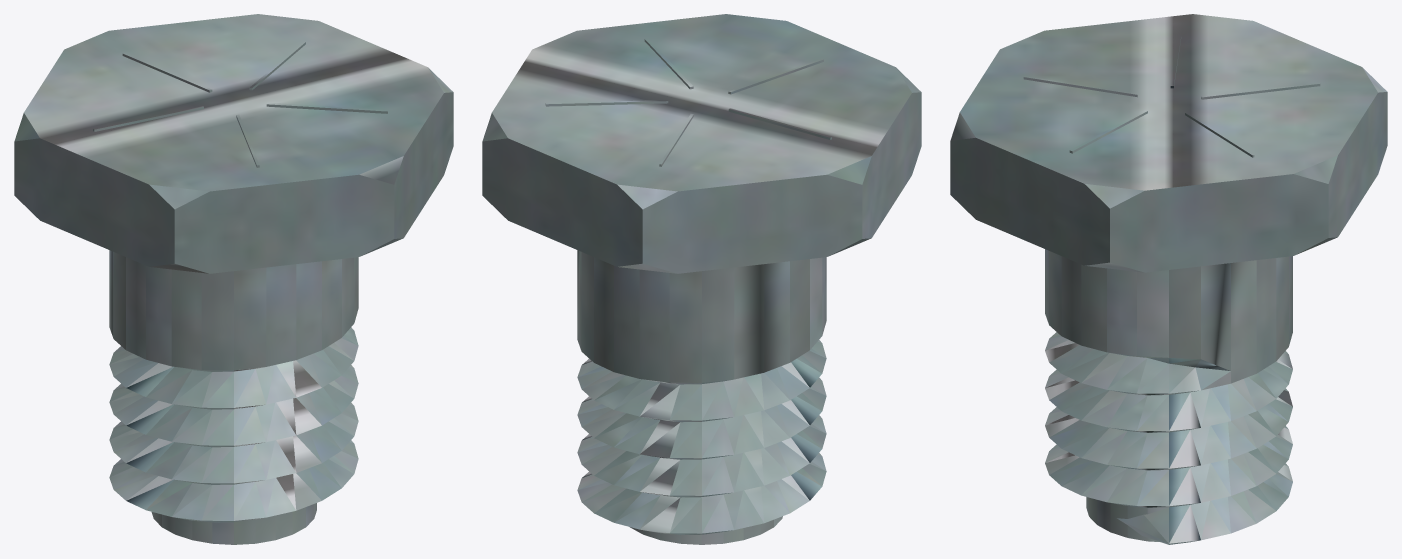
Rendered from bolt.dae.
3 renders of one model, left to right at view 1: azimuth 30°, elevation 25°; view 2: azimuth 150°, elevation 25°; view 3: azimuth 270°, elevation 25°, orthographic.
Parts seen in each view (by area): view 1: Model; view 2: Model; view 3: Model.
Boxes of the visible parts, left/top/right/bottom form: Model: left=14, top=14, right=453, bottom=544; Model: left=482, top=14, right=921, bottom=544; Model: left=950, top=14, right=1387, bottom=544.
Size of the model in its own units: 21.12 by 21.14 by 21.88.
